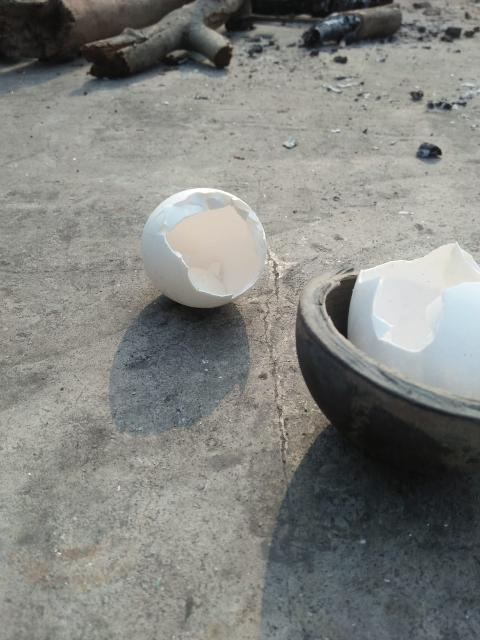Roto: (346, 240, 479, 401), (143, 187, 267, 310)
